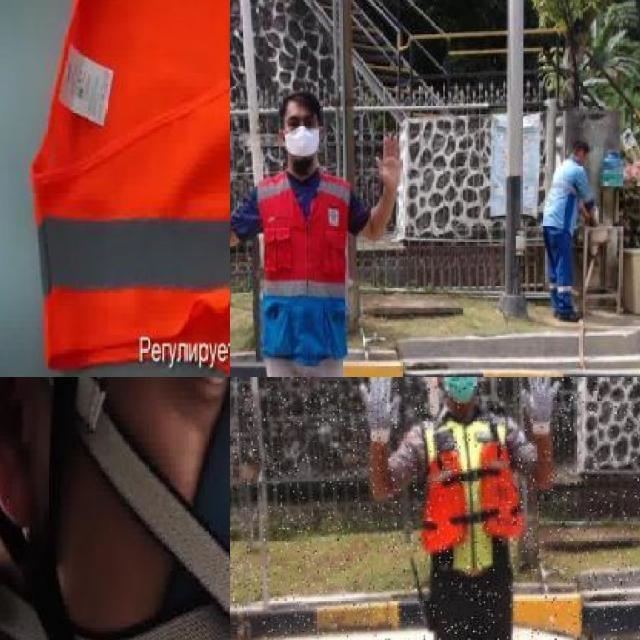apron: (356, 377, 404, 447), (519, 377, 562, 436)
